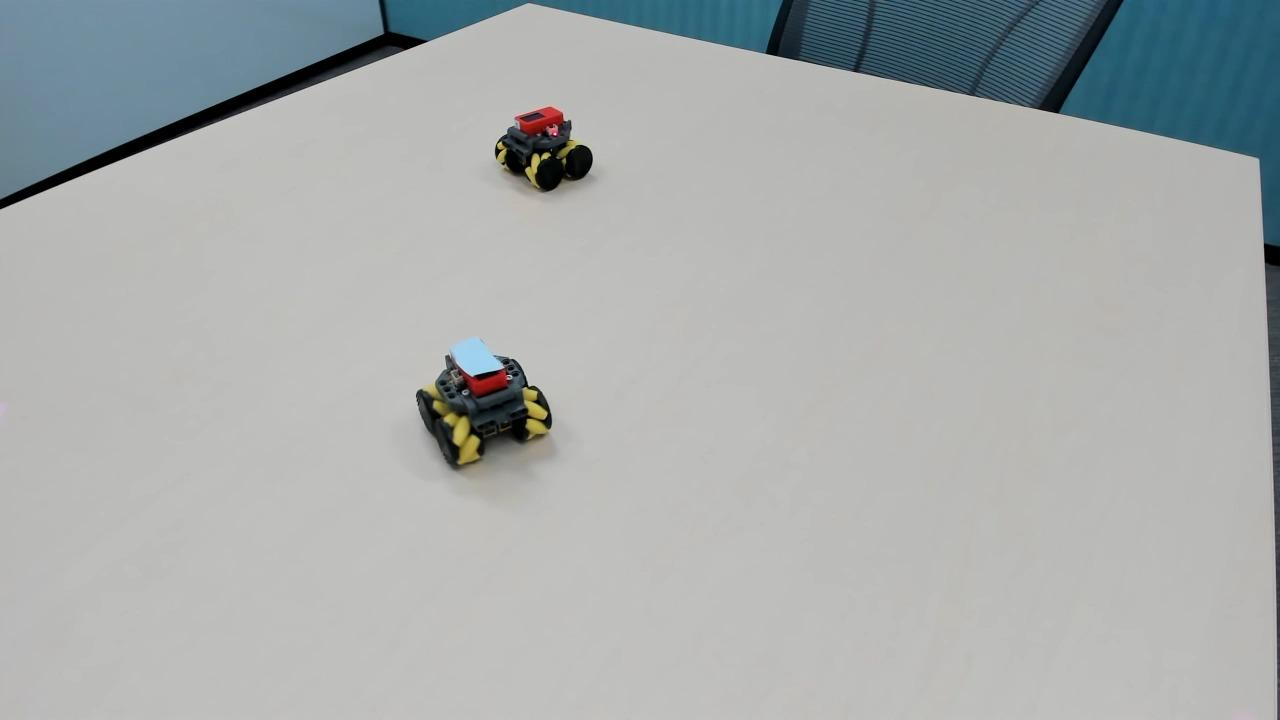B-Robot: (398, 326, 569, 485)
R-Robot: (481, 101, 600, 201)
